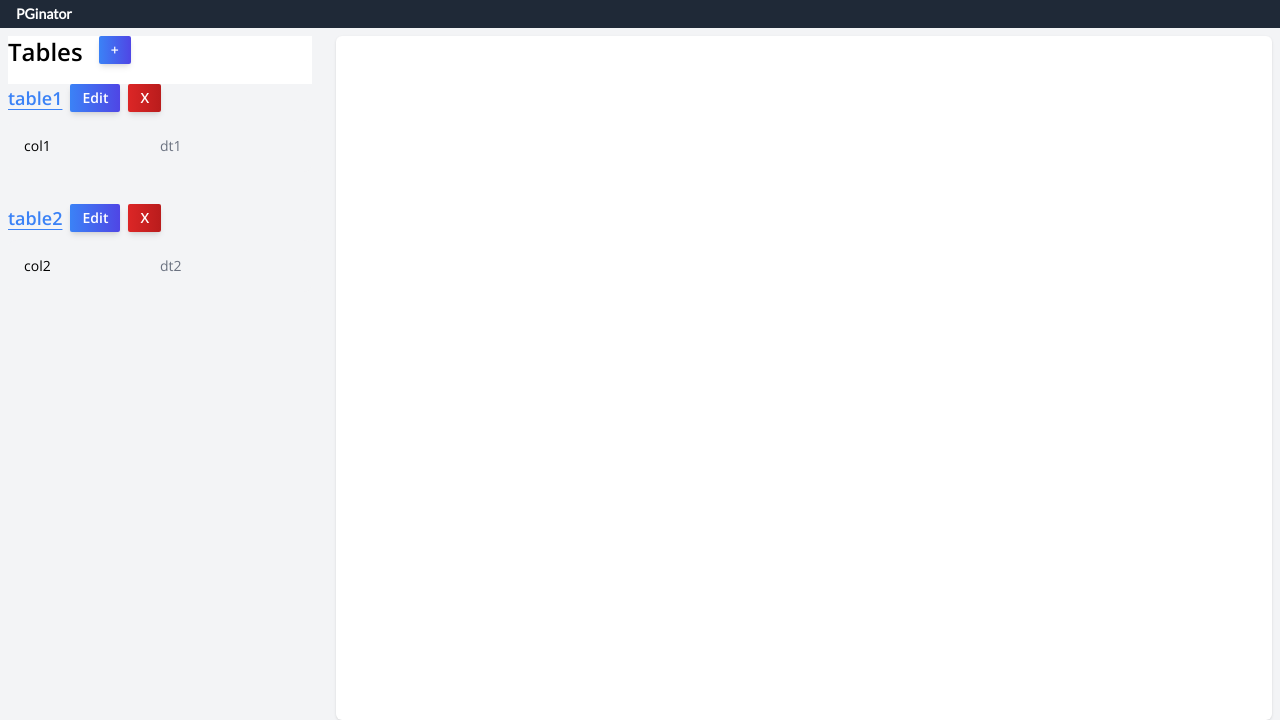
it: Form validation › redisables the 'Update Table' button remaing SQL statement is deleted
This screenshot has width=1280, height=720.
expect the link "table1" is shown: met, box [8,84,62,112]
Click the button "Edit" next to "table1".
click(96, 98)  # box [70,84,120,112]
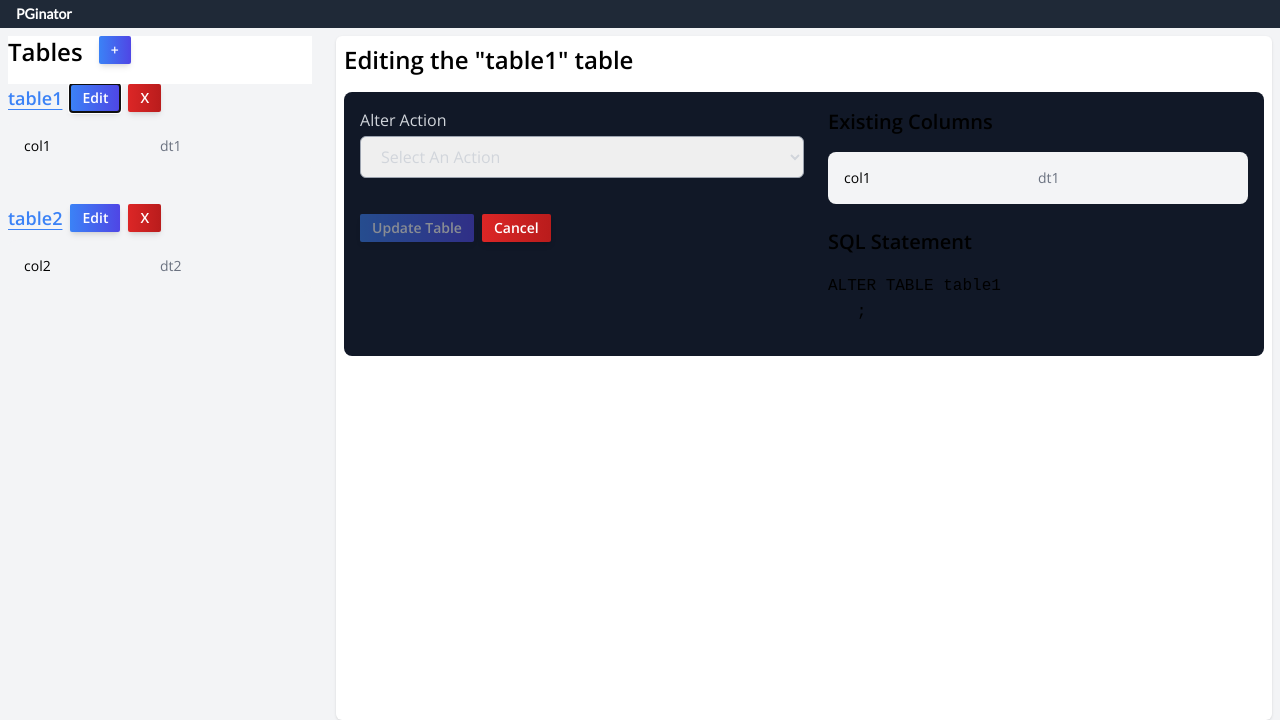
Select "DROP" in the dropdown labelled "Alter Action" at (582, 157), box [360,136,804,178]
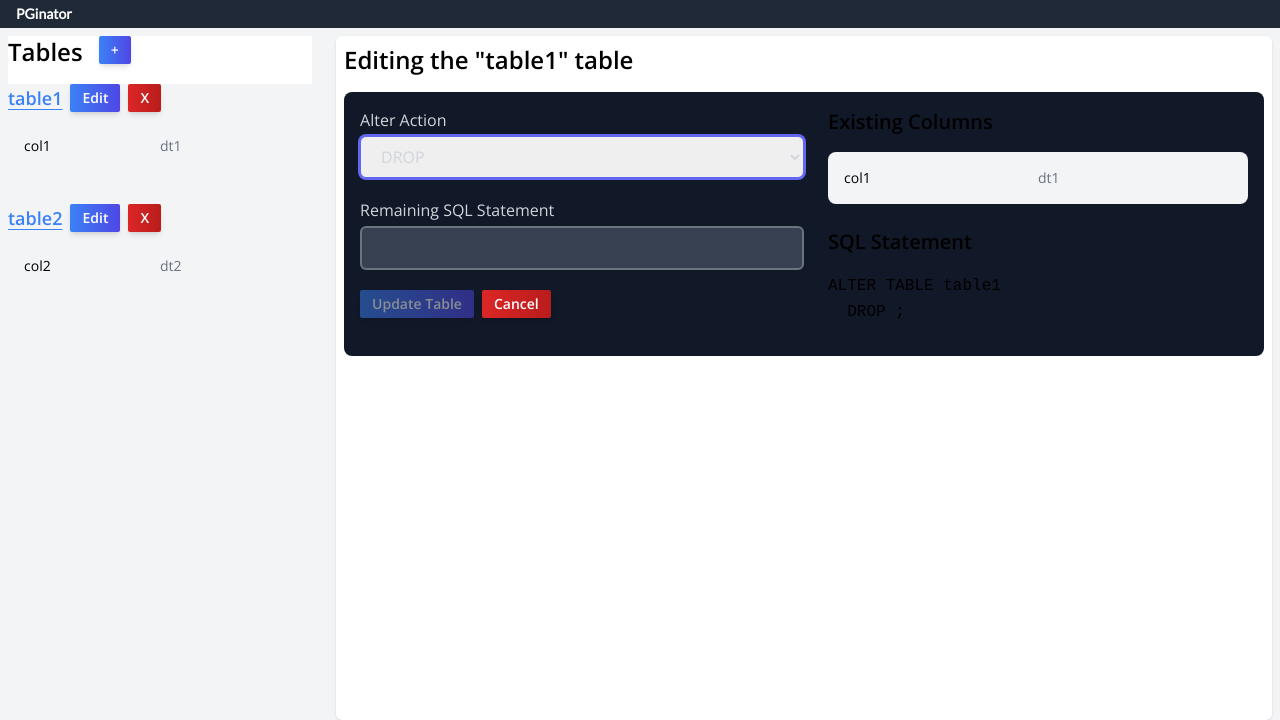
expect the button "Update Table" is disabled: met, box [360,290,474,318]
Click the field labelled "Remaining SQL Statement".
click(582, 248)  # box [360,226,804,270]
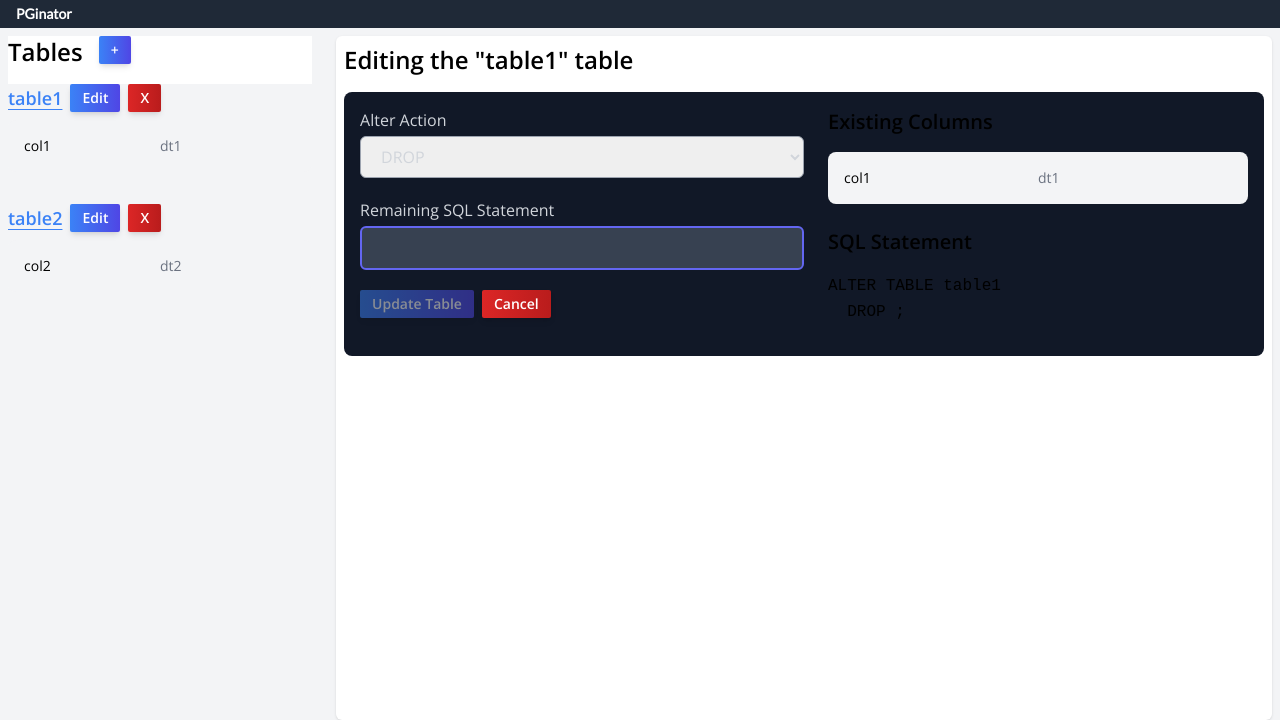
Type keys "column_name"
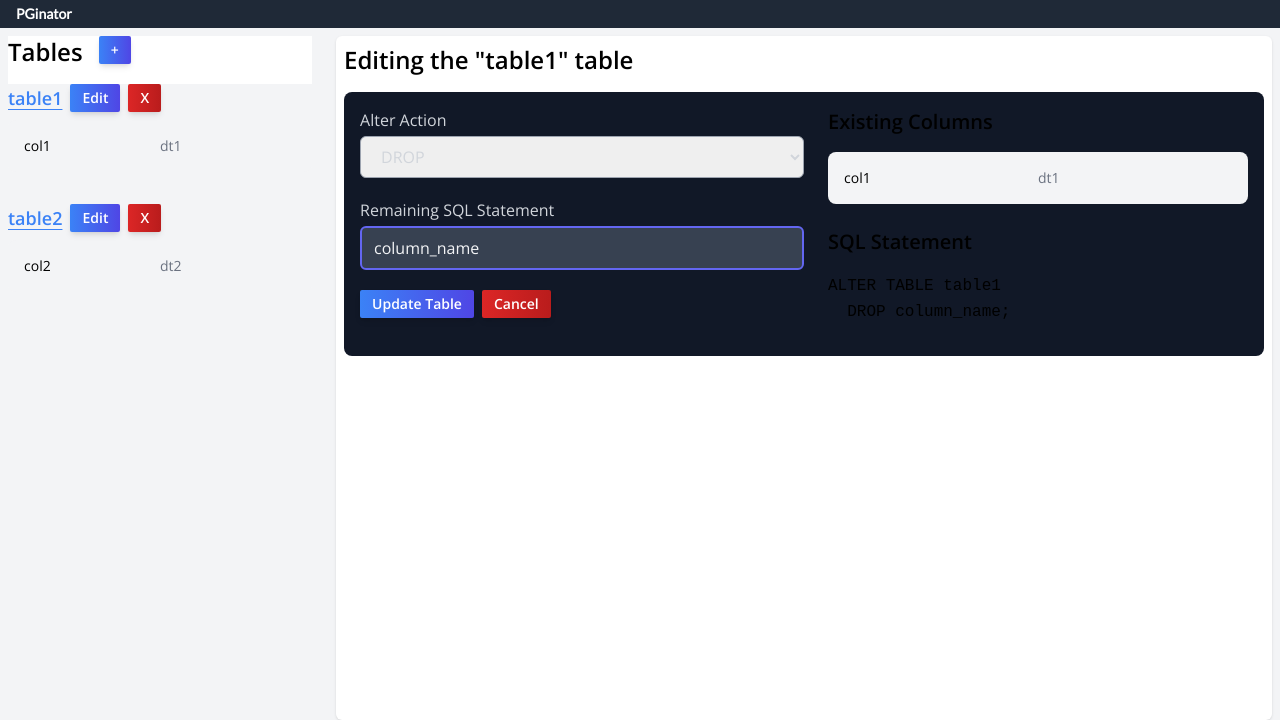
expect the button "Update Table" is enabled: met, box [360,290,474,318]
Clear the field labelled "Remaining SQL Statement" at (582, 248), box [360,226,804,270]
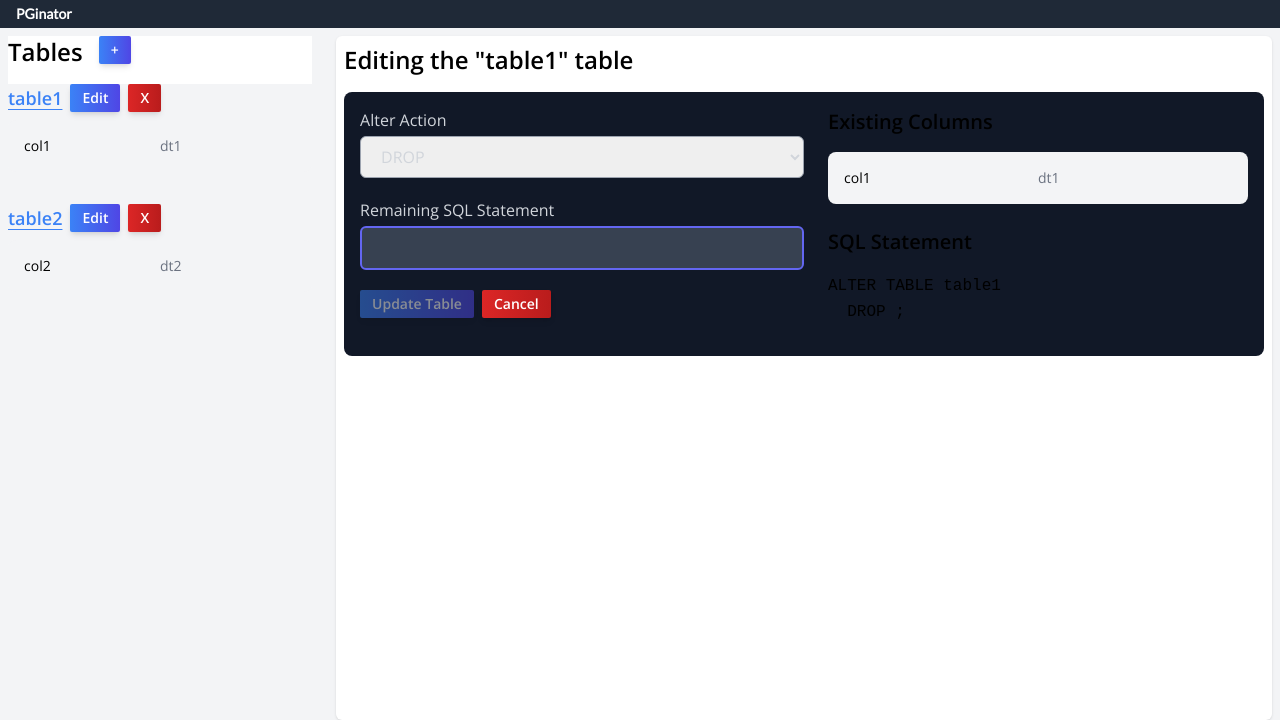
expect the button "Update Table" is disabled: met, box [360,290,474,318]
